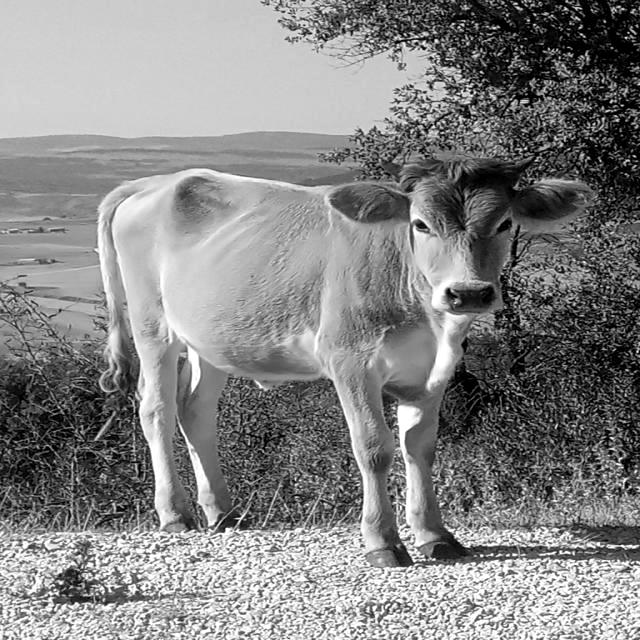COW: (98, 159, 590, 566)
